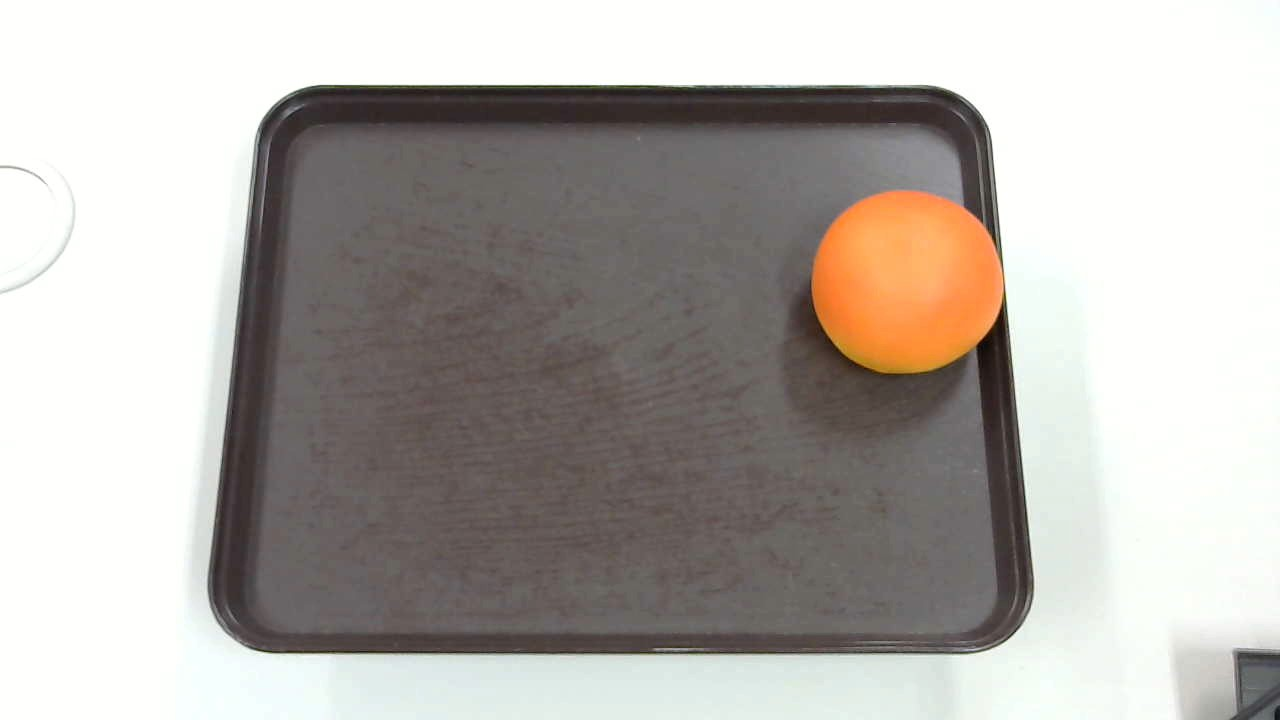bun: (811, 191, 1004, 373)
